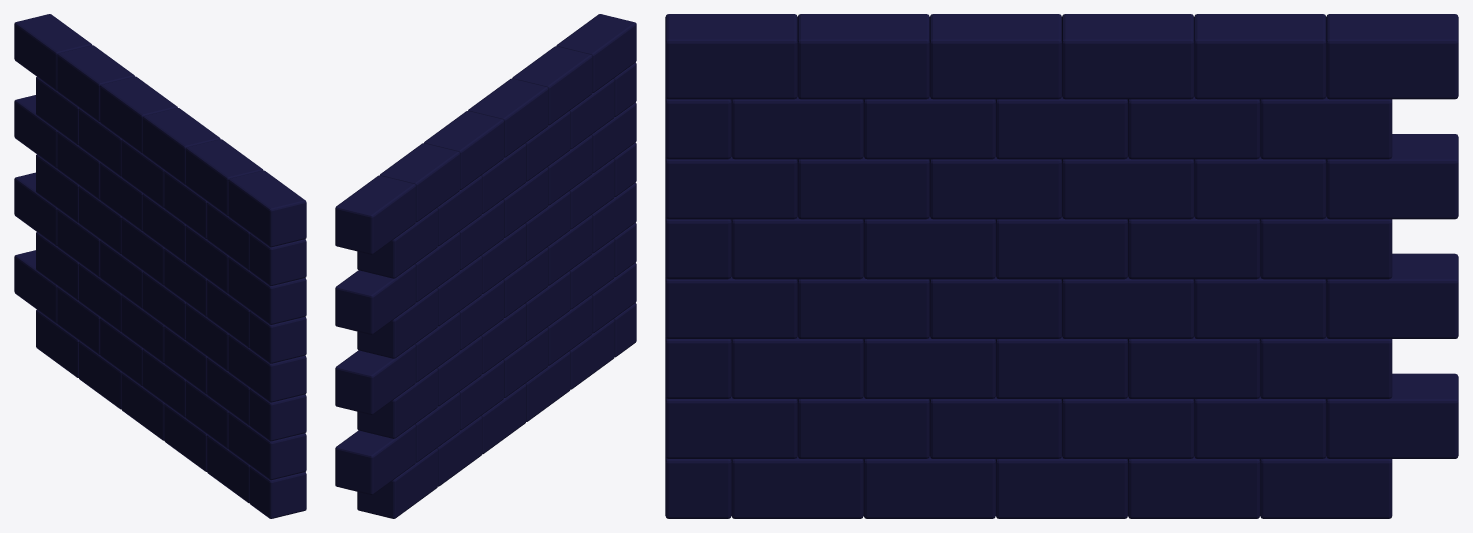
Rendered from End wall.fbx.
3 views of the same model, side by side, from view 1: azimuth 30°, elevation 25°; view 2: azimuth 150°, elevation 25°; view 3: azimuth 270°, elevation 25° (orthographic). The views are drawn at different scales.
Parts seen in each view (by area): view 1: End wall; view 2: End wall; view 3: End wall.
Part boxes in pixels (<box>): End wall: <box>14,14,306,518</box>; End wall: <box>335,14,636,518</box>; End wall: <box>665,14,1458,518</box>.
Size of the model in its own units: 1 by 8 by 11.99.
